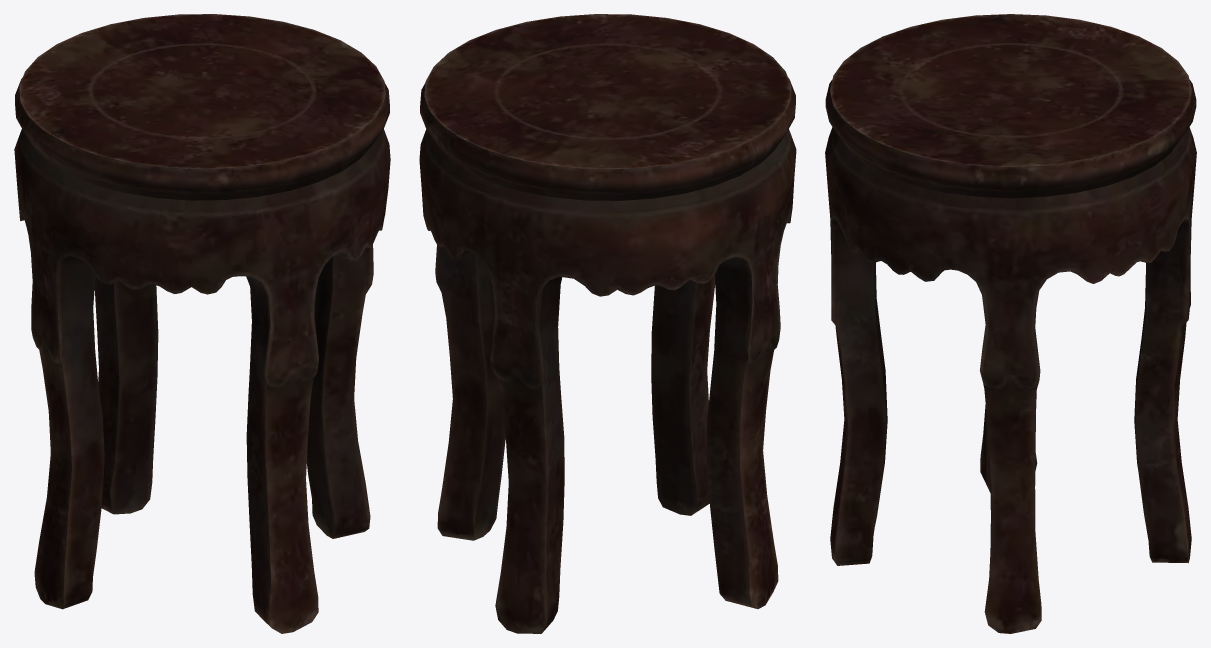
File: WoodenTable_02.glb
3 views of the same model, side by side, from view 1: azimuth 30°, elevation 25°; view 2: azimuth 150°, elevation 25°; view 3: azimuth 270°, elevation 25° (orthographic).
Visible parts, largest first — view 1: WoodenTable_02; view 2: WoodenTable_02; view 3: WoodenTable_02.
Part boxes in pixels (bbox=[...]): WoodenTable_02: bbox=[14, 14, 390, 633]; WoodenTable_02: bbox=[419, 14, 796, 633]; WoodenTable_02: bbox=[825, 14, 1196, 633].
Size of the model in its own units: 0.3007 by 0.4177 by 0.3007.
Materials: 1 (1 with a texture image).
